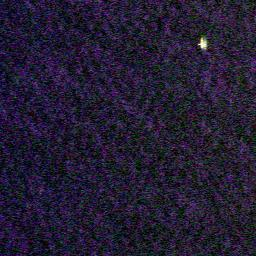Ship: (198, 37, 209, 52)
